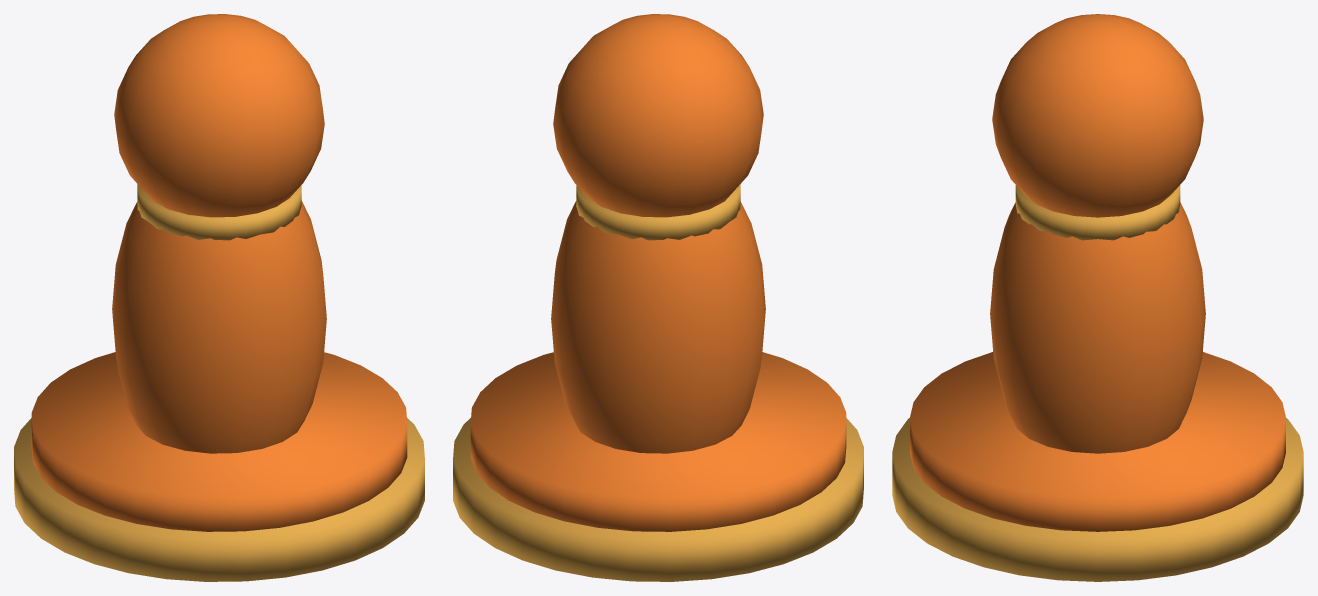
The model's file is pawn_lumo.glb.
3 renders of one model, left to right at view 1: azimuth 30°, elevation 25°; view 2: azimuth 150°, elevation 25°; view 3: azimuth 270°, elevation 25°, orthographic.
Visible parts, largest first — view 1: Curved body.001, Enamel foot.001, Rounded head.001, Brass foot.001, Brass collar.001; view 2: Curved body.001, Enamel foot.001, Rounded head.001, Brass foot.001, Brass collar.001; view 3: Curved body.001, Enamel foot.001, Rounded head.001, Brass foot.001, Brass collar.001.
Boxes of the visible parts, x1,y1,x2,y2 form: Curved body.001: (112,201,326,453); Enamel foot.001: (31,352,407,531); Rounded head.001: (114,14,324,217); Brass foot.001: (14,418,424,581); Brass collar.001: (137,184,301,240); Curved body.001: (551,201,765,453); Enamel foot.001: (470,352,846,531); Rounded head.001: (553,14,763,217); Brass foot.001: (453,418,863,581); Brass collar.001: (576,184,740,240); Curved body.001: (990,202,1205,453); Enamel foot.001: (910,352,1285,531); Rounded head.001: (992,14,1203,217); Brass foot.001: (892,418,1303,581); Brass collar.001: (1015,185,1180,240).
Bounding box in the file's own units: 1.4 × 1.77 × 1.4.
